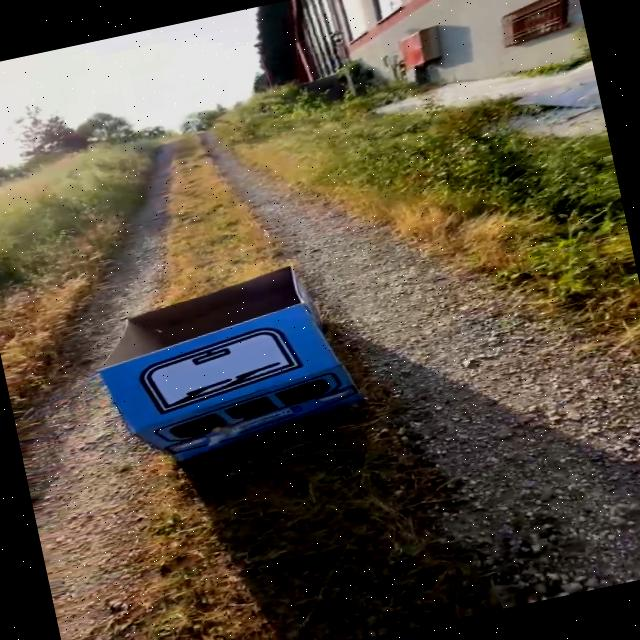blue_car: (0, 233, 454, 527)
